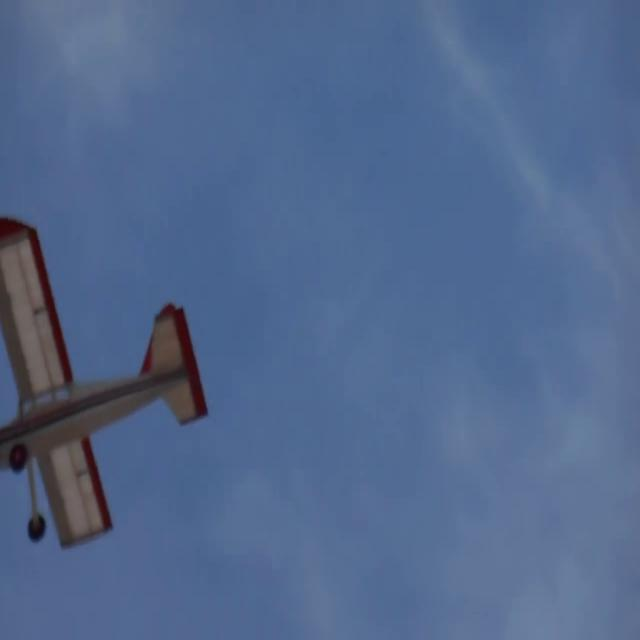iha: (0, 200, 146, 556)
